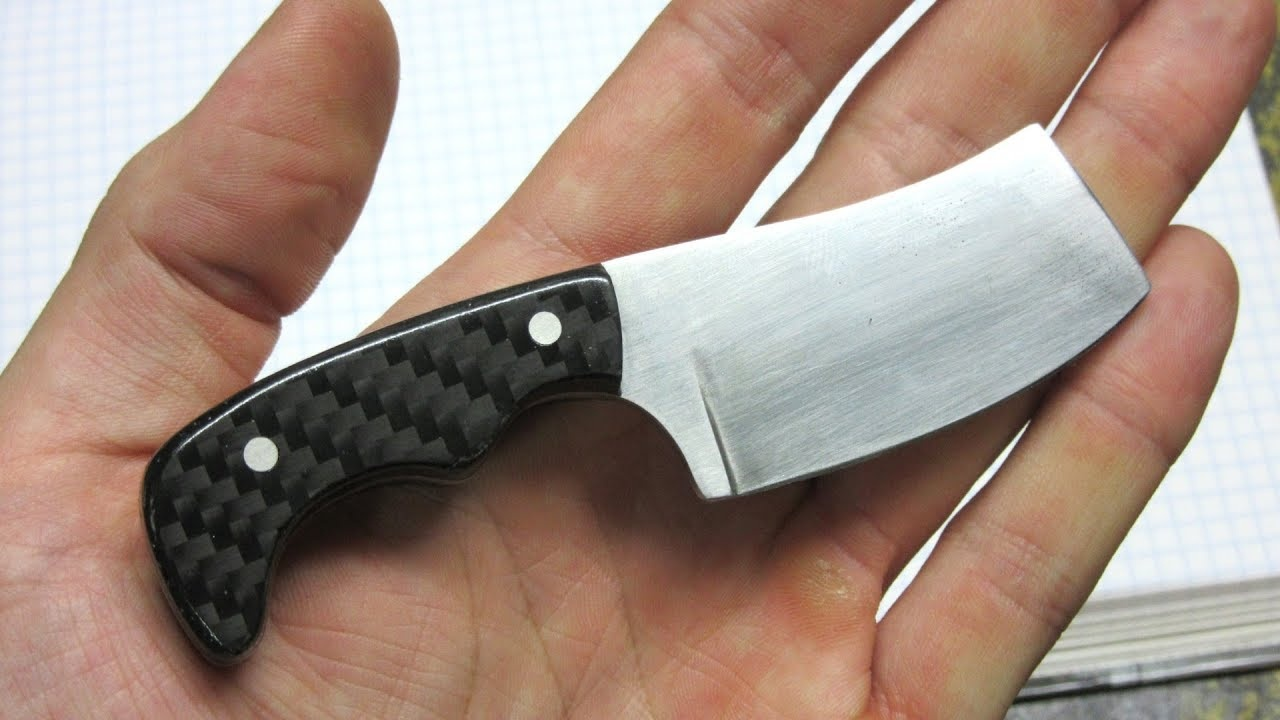knife: (136, 119, 1154, 686)
